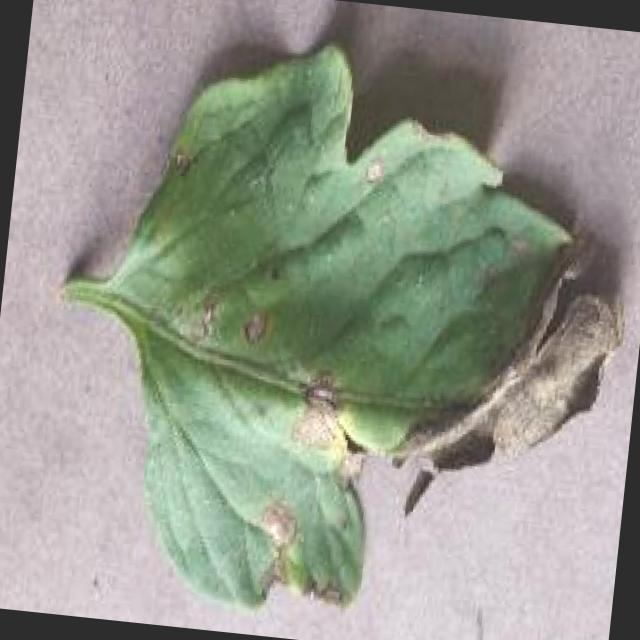leaf blight: (47, 38, 616, 614)
